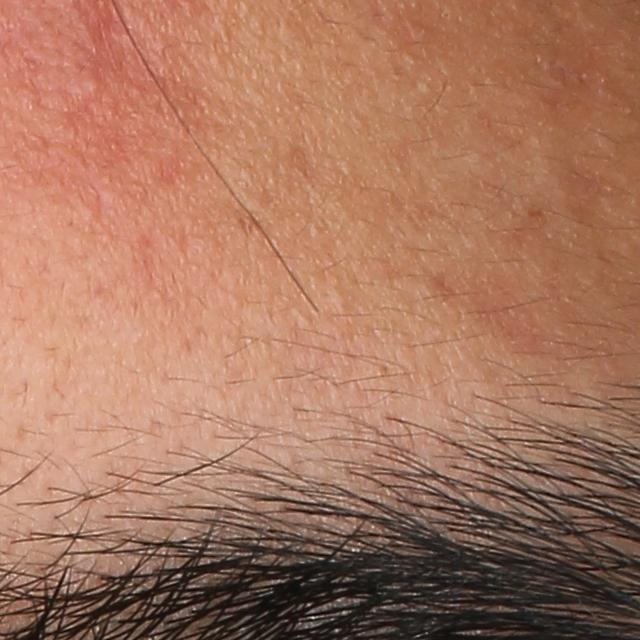comedo: (78, 70, 107, 100)
